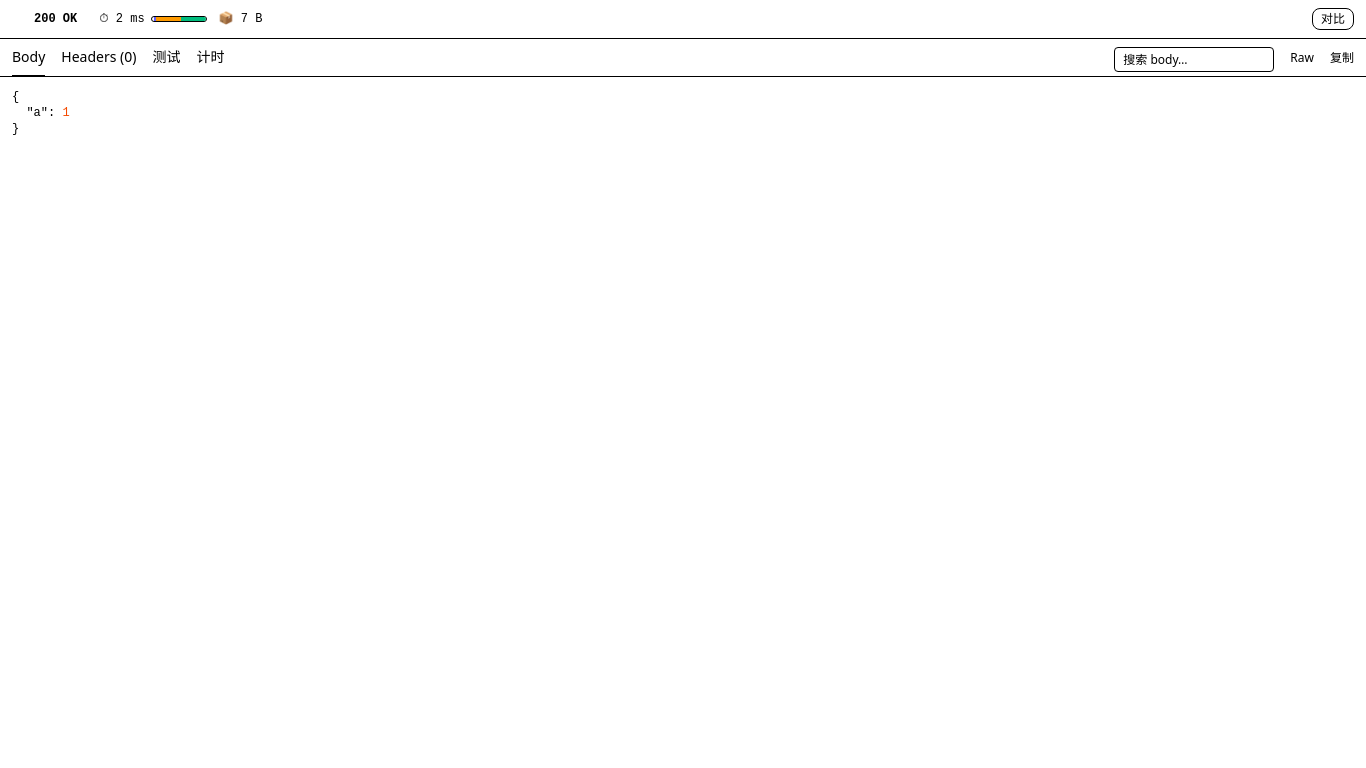
ResponseViewer 对比入口 › opens the diff dialog wired with the current response as base
Click the button "对比".
click(1333, 19)  # box [1312, 8, 1354, 30]
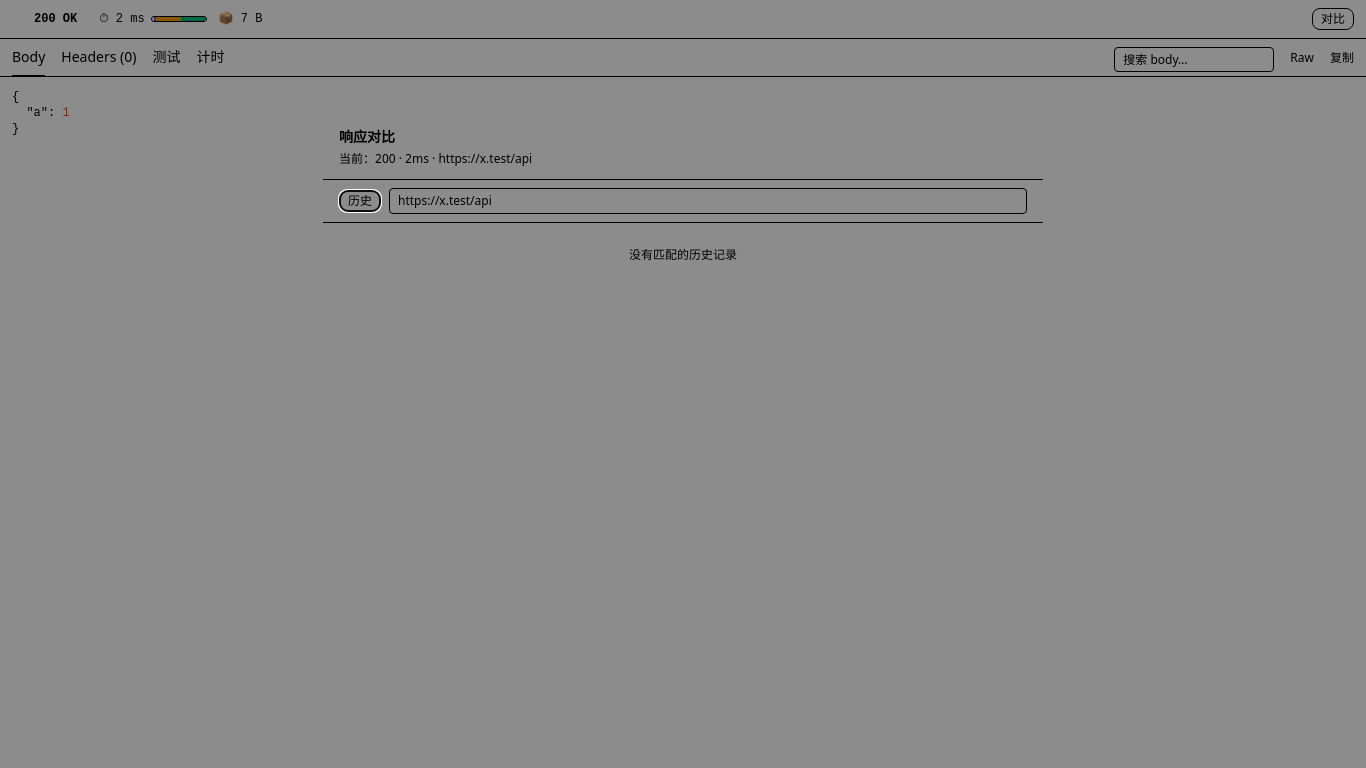
Result: the heading "响应对比" is shown at [339, 127, 395, 146]
Result: the field with placeholder "搜索 URL / 方法…" holds "https://x.test/api" at [389, 188, 1027, 214]
Result: the text "没有匹配的历史记录" is shown at [629, 246, 737, 263]
